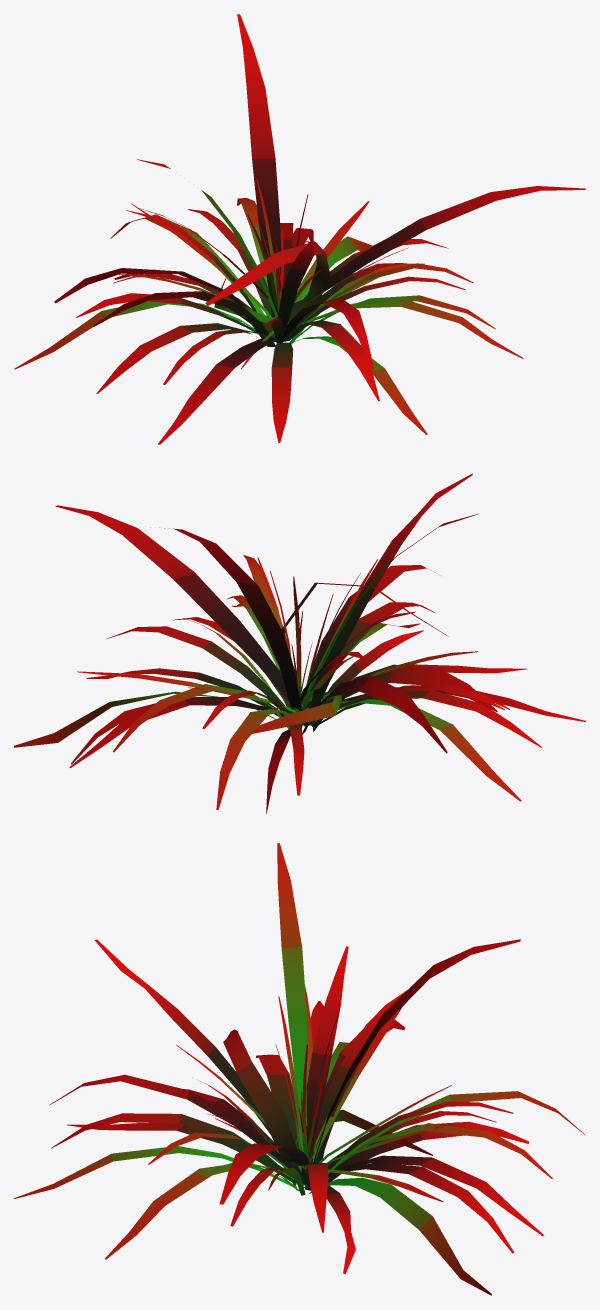
File: Ribbon Plant_LOD3_Var3_rhDrj.fbx
3 views of the same model, one above another, from view 1: azimuth 30°, elevation 25°; view 2: azimuth 150°, elevation 25°; view 3: azimuth 270°, elevation 25° (orthographic). The views are drawn at different scales.
Visible parts, largest first — view 1: _c0d2_Var3_LOD3; view 2: _c0d2_Var3_LOD3; view 3: _c0d2_Var3_LOD3.
Part boxes in pixels (bbox=[...]): _c0d2_Var3_LOD3: bbox=[14, 14, 585, 444]; _c0d2_Var3_LOD3: bbox=[14, 473, 585, 813]; _c0d2_Var3_LOD3: bbox=[14, 843, 585, 1295].
Size of the model in its own units: 60.05 by 28.58 by 52.3.
